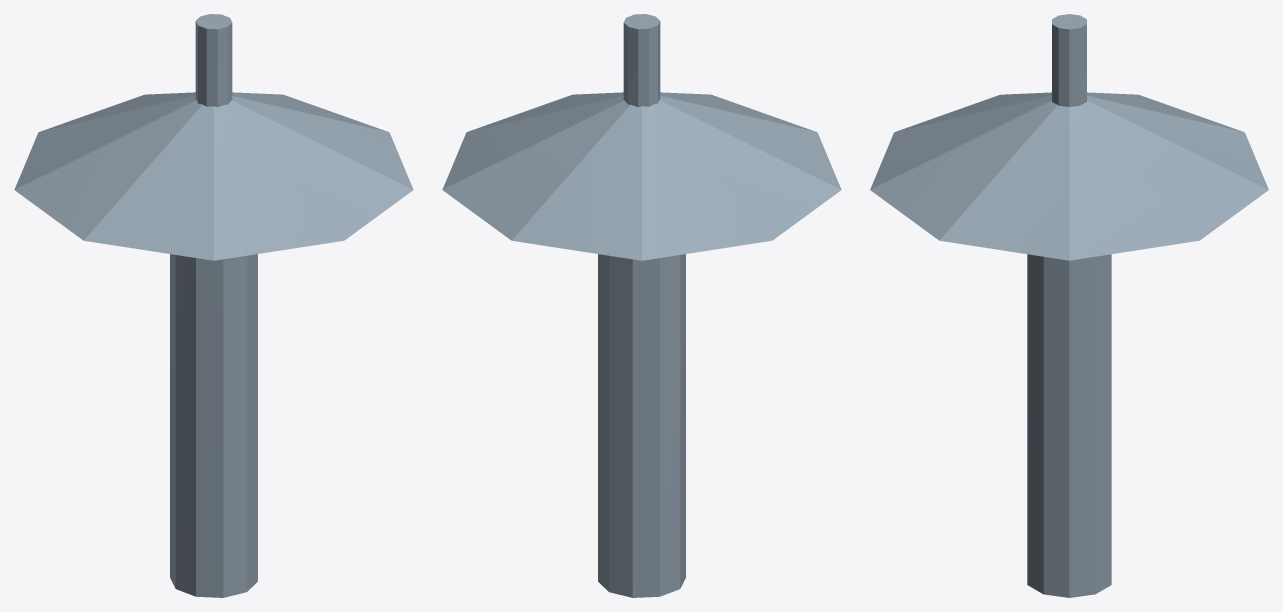
Rendered from satellite_dish-02.glb.
The picture shows the model from 3 angles, left to right: view 1: azimuth 30°, elevation 25°; view 2: azimuth 150°, elevation 25°; view 3: azimuth 270°, elevation 25°; orthographic projection.
Parts seen in each view (by area): view 1: world; view 2: world; view 3: world.
Boxes of the visible parts, <box> form: world: <box>14,14,413,597</box>; world: <box>442,14,841,597</box>; world: <box>870,14,1268,597</box>.
Bounding box in the file's own units: 1.07 × 1.67 × 1.08.
